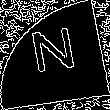N_S: (28, 26, 82, 84)
